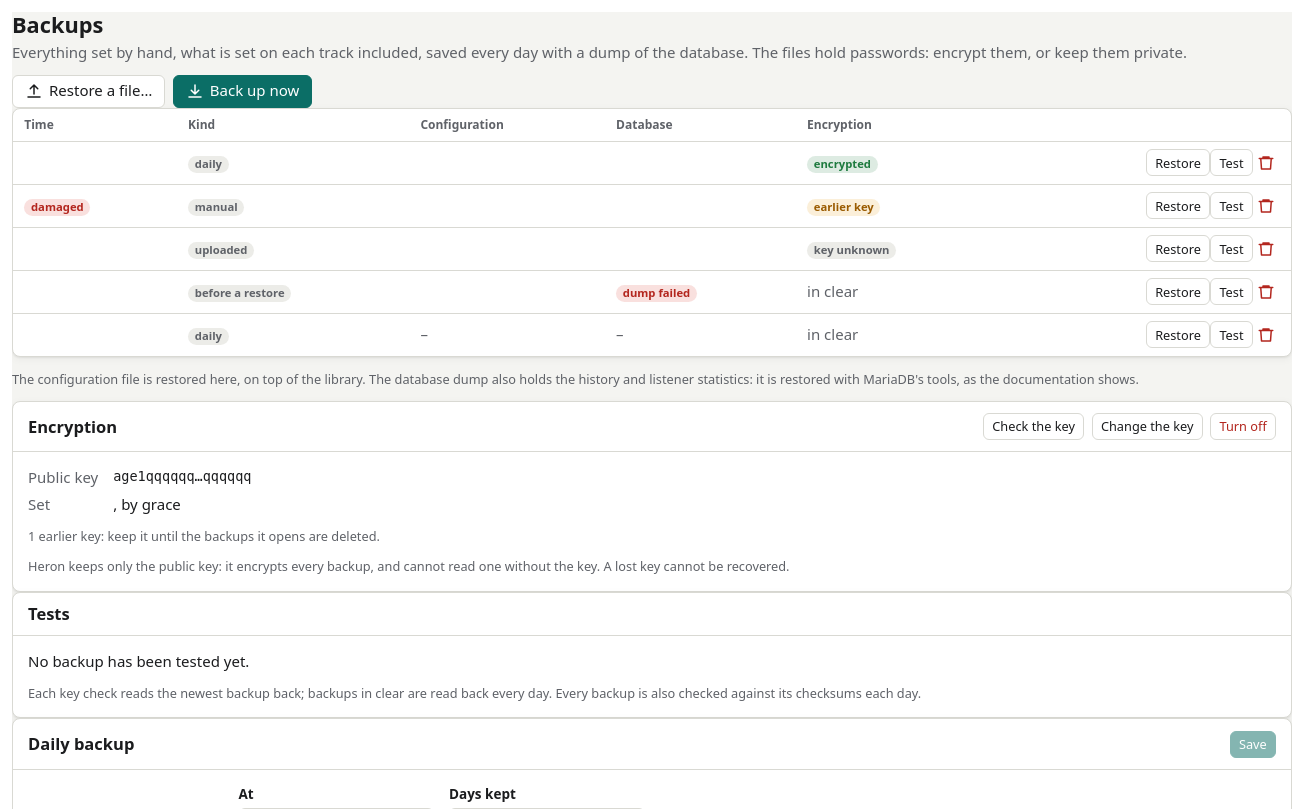
Test: testing › tests a backup in clear at once
Click the button "Test" in the row of "before a restore" at (1231, 292), box [1210,278,1253,306]
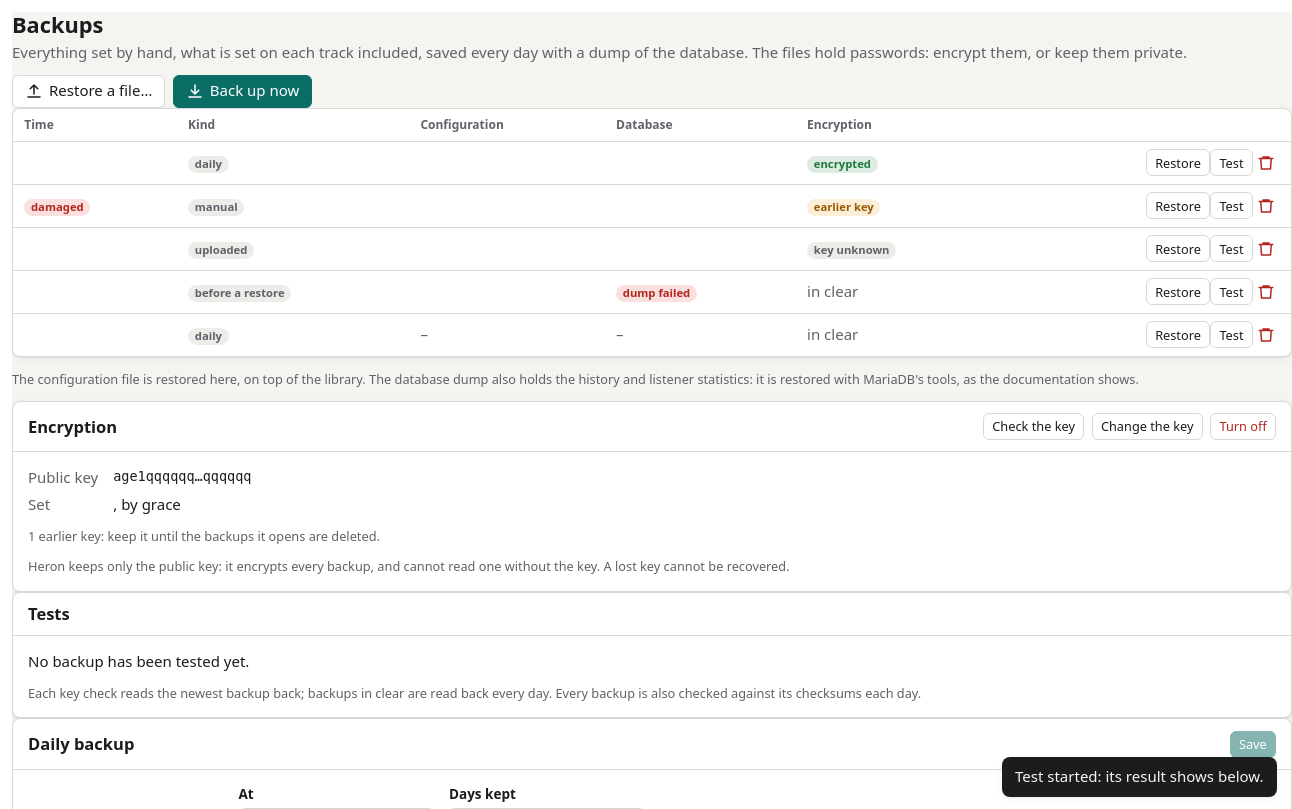
Expected: the text "Test started: its result shows below." is shown, [1002,757,1277,797]
